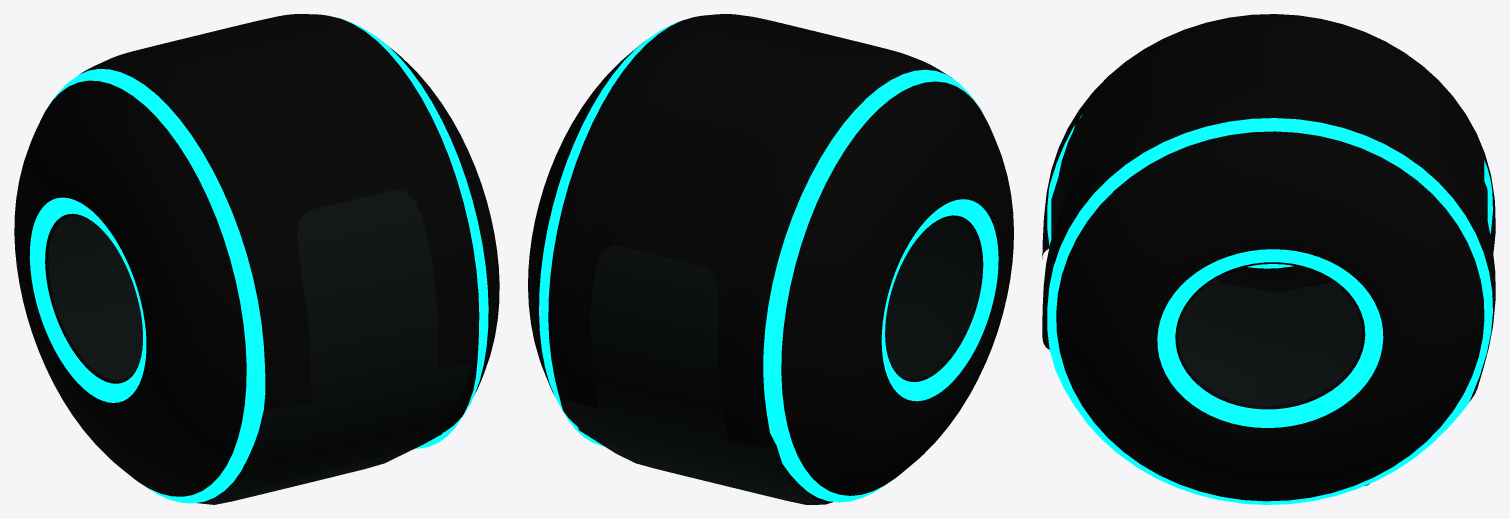
File: wheel.glb
The picture shows the model from 3 angles, left to right: view 1: azimuth 30°, elevation 25°; view 2: azimuth 150°, elevation 25°; view 3: azimuth 270°, elevation 25°; orthographic projection. The views are drawn at different scales.
Visible parts, largest first — view 1: Cylinder002, Cylinder001; view 2: Cylinder002, Cylinder001; view 3: Cylinder002, Cylinder001.
Part boxes in pixels (x1,y1,x2,y2): Cylinder002: (14, 14, 499, 503); Cylinder001: (48, 190, 475, 504); Cylinder002: (528, 14, 1013, 502); Cylinder001: (567, 218, 979, 504); Cylinder002: (1042, 14, 1495, 504); Cylinder001: (1051, 114, 1487, 485).
Bounding box in the file's own units: 52.12 × 61.8 × 62.63.
